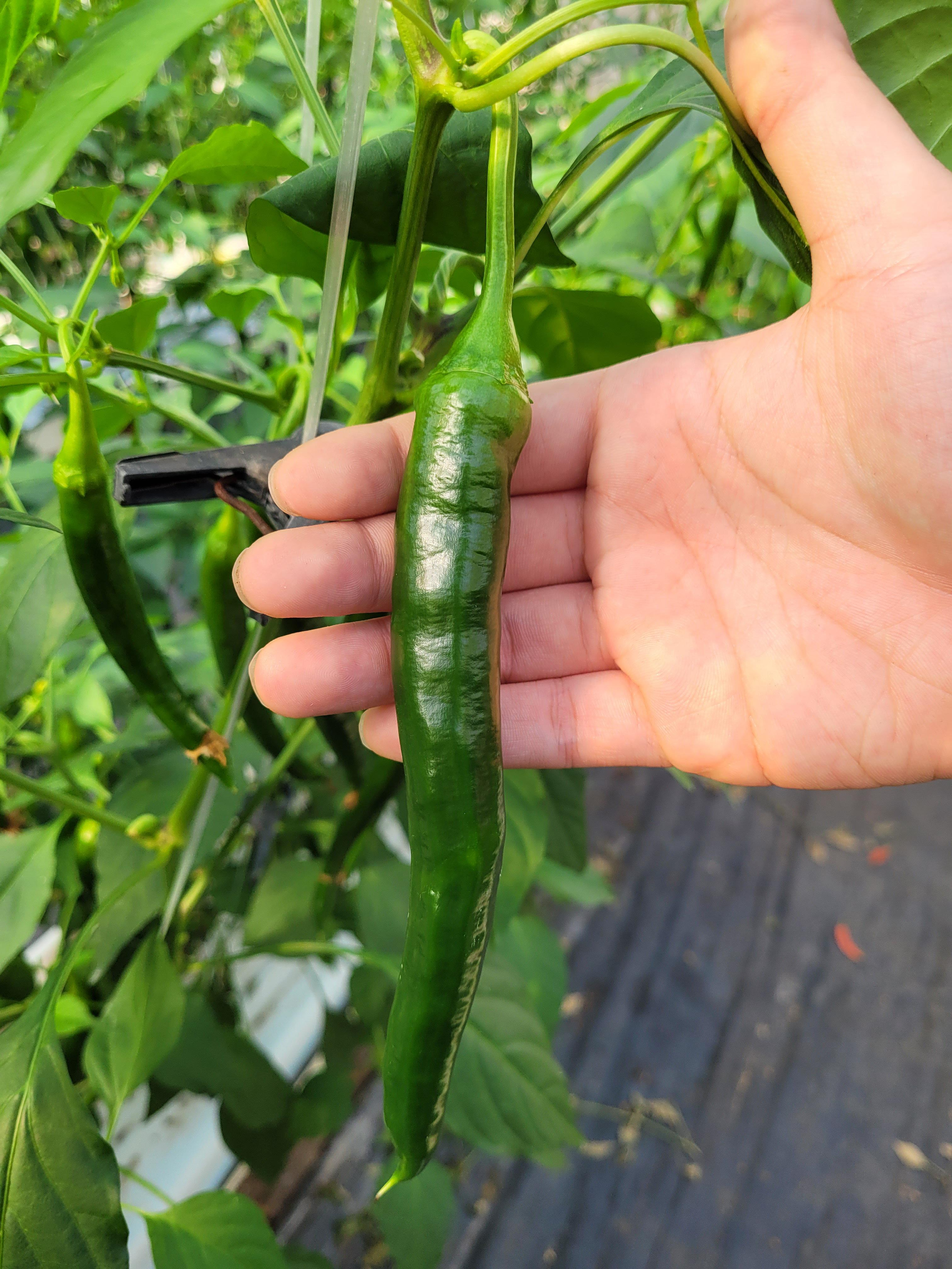Buah Cabai Sehat: (372, 300, 538, 1197), (45, 451, 241, 788)
